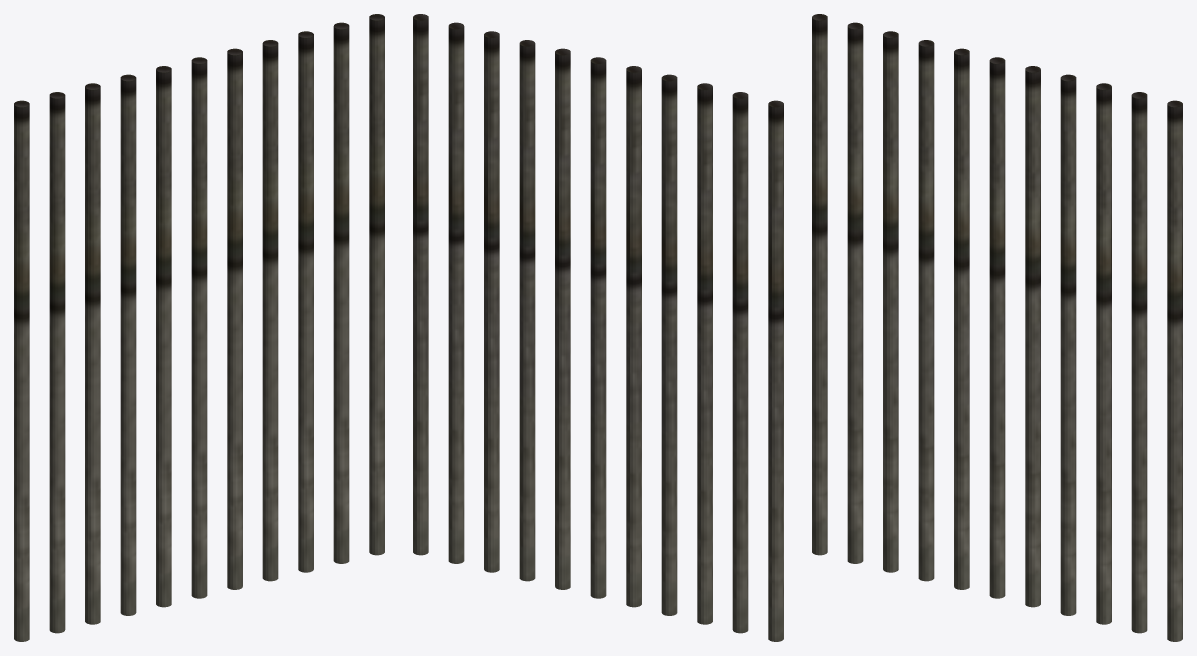
File: MetalBars.fbx
3 renders of one model, left to right at view 1: azimuth 30°, elevation 25°; view 2: azimuth 150°, elevation 25°; view 3: azimuth 330°, elevation 25°, orthographic.
Visible parts, largest first — view 1: Cylinder; view 2: Cylinder; view 3: Cylinder.
Boxes of the visible parts, x1,y1,x2,y2 form: Cylinder: (14,14,384,641); Cylinder: (413,14,783,641); Cylinder: (812,14,1182,641).
Size of the model in its own units: 182 by 252 by 6.76.
1 material, 1 textured.
